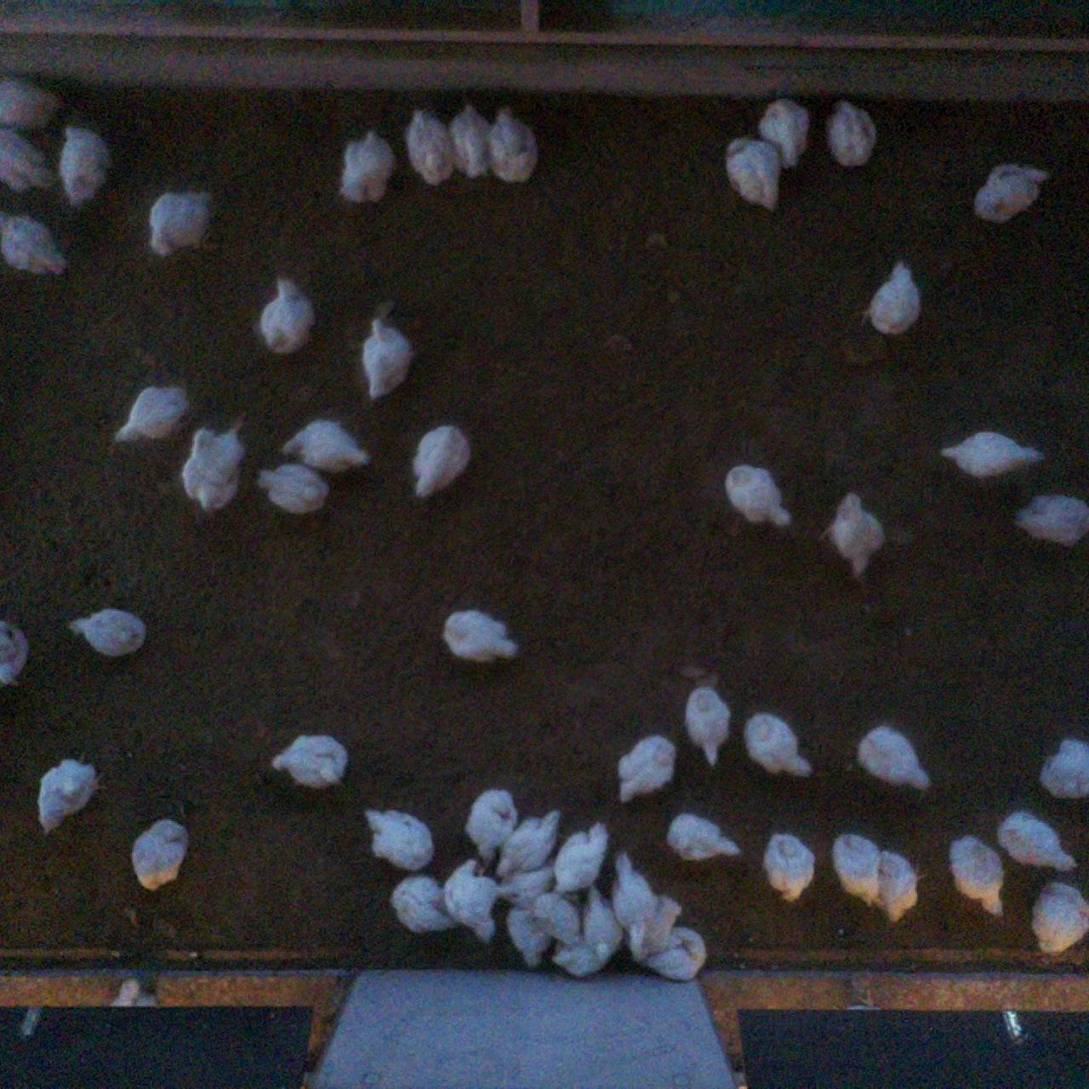chicken: (178, 408, 254, 514), (608, 849, 671, 958), (35, 753, 108, 837), (941, 425, 1043, 482), (147, 182, 217, 264), (968, 155, 1049, 225), (279, 416, 371, 477), (824, 489, 888, 576), (640, 895, 704, 982), (252, 267, 316, 353), (489, 808, 563, 882), (740, 709, 814, 783), (360, 801, 434, 874), (862, 259, 927, 342), (944, 832, 1005, 919), (547, 815, 609, 900), (115, 379, 191, 448), (407, 422, 475, 499), (443, 853, 502, 941), (1028, 873, 1089, 958), (856, 724, 928, 796), (53, 119, 113, 205), (355, 315, 413, 403), (0, 201, 65, 279), (466, 783, 522, 872), (720, 134, 784, 211), (483, 101, 540, 187), (612, 731, 682, 801), (64, 601, 147, 660), (1002, 809, 1076, 875), (726, 463, 797, 531), (131, 815, 192, 894), (439, 608, 522, 665), (274, 728, 349, 790), (1013, 489, 1089, 550), (251, 455, 328, 515), (338, 128, 396, 206), (756, 90, 811, 172), (681, 682, 734, 766), (831, 826, 884, 909), (393, 873, 463, 935), (669, 809, 742, 867), (828, 94, 881, 172), (0, 122, 55, 197), (505, 896, 563, 967), (446, 99, 496, 180), (403, 110, 456, 186), (575, 887, 627, 964), (871, 841, 917, 925), (760, 832, 815, 902), (519, 886, 580, 948), (1038, 734, 1089, 806), (0, 73, 61, 131), (495, 863, 563, 910), (0, 610, 31, 698), (553, 940, 607, 980)
